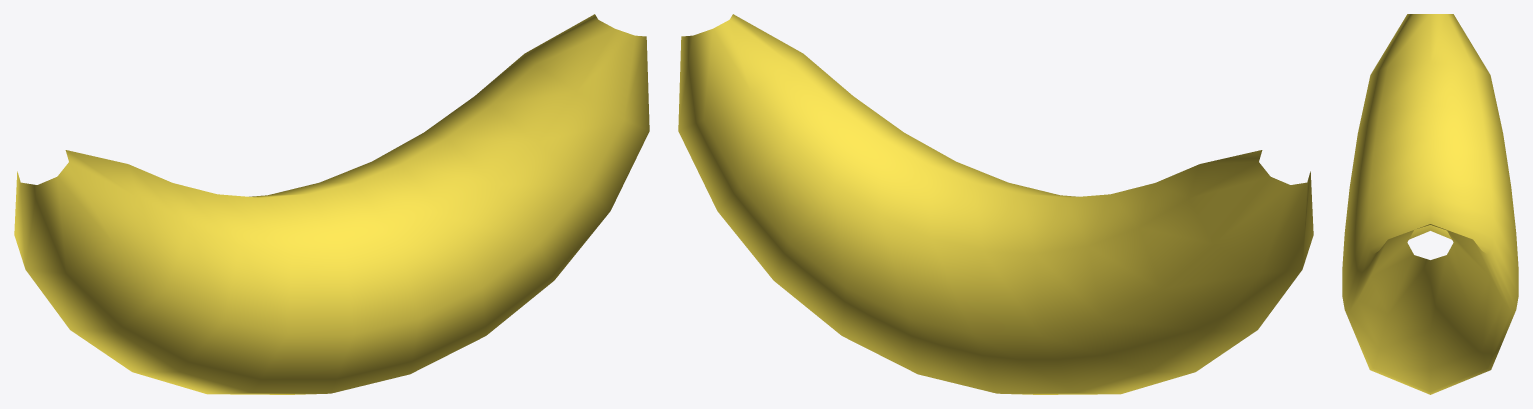
Rendered from platano-lowpoly.glb.
3 views of the same model, side by side, from view 1: azimuth 30°, elevation 25°; view 2: azimuth 150°, elevation 25°; view 3: azimuth 270°, elevation 25° (orthographic). The views are drawn at different scales.
Visible parts, largest first — view 1: Platano Low Poly; view 2: Platano Low Poly; view 3: Platano Low Poly.
Part boxes in pixels (x1=…): Platano Low Poly: x1=14, y1=14, x2=649, y2=394; Platano Low Poly: x1=678, y1=14, x2=1313, y2=394; Platano Low Poly: x1=1342, y1=14, x2=1518, y2=394.
Bounding box in the file's own units: 3.03 × 1.39 × 0.9169.
